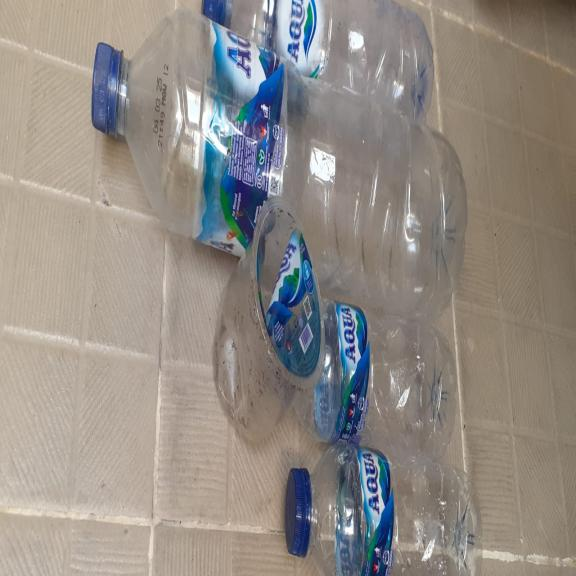Plastik: (94, 4, 468, 320), (199, 0, 434, 122), (282, 443, 480, 576), (302, 298, 457, 454)
